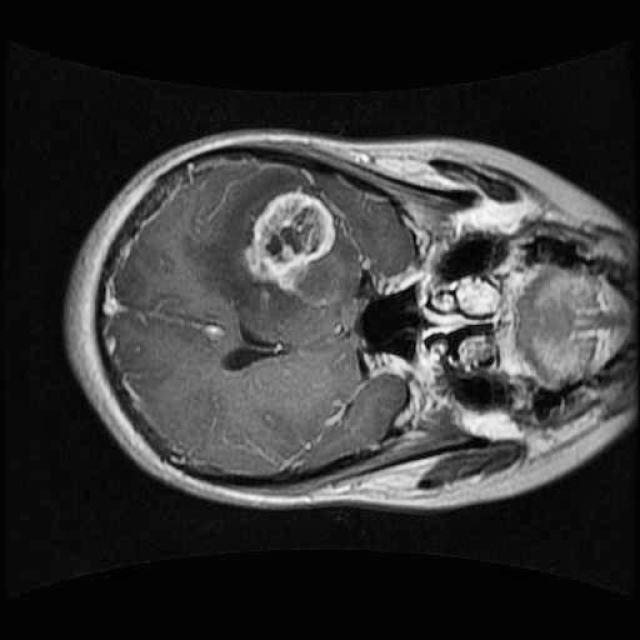Tumor: (236, 178, 346, 302)
